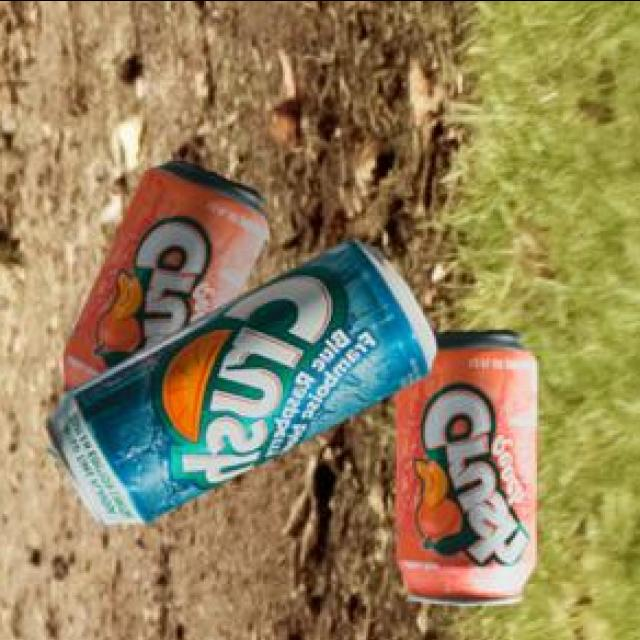logam: (41, 236, 433, 525), (58, 157, 264, 391), (393, 325, 534, 599)
